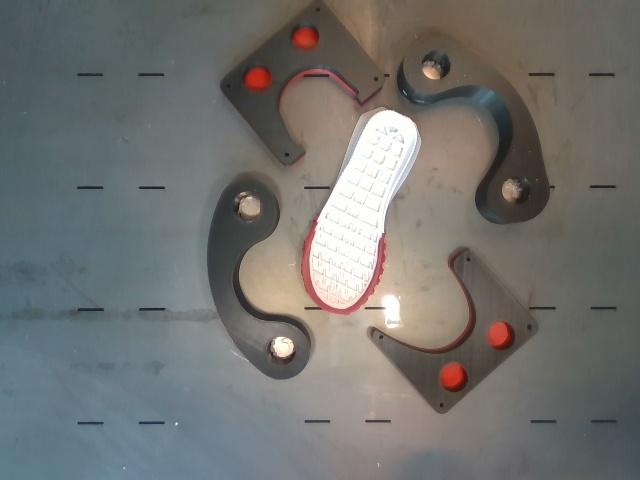shoes: (304, 111, 416, 313)
